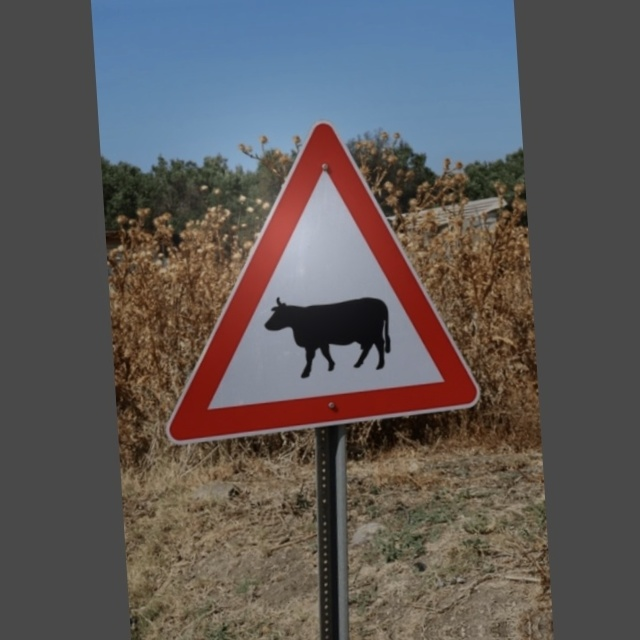Cattle: (164, 117, 485, 443)
